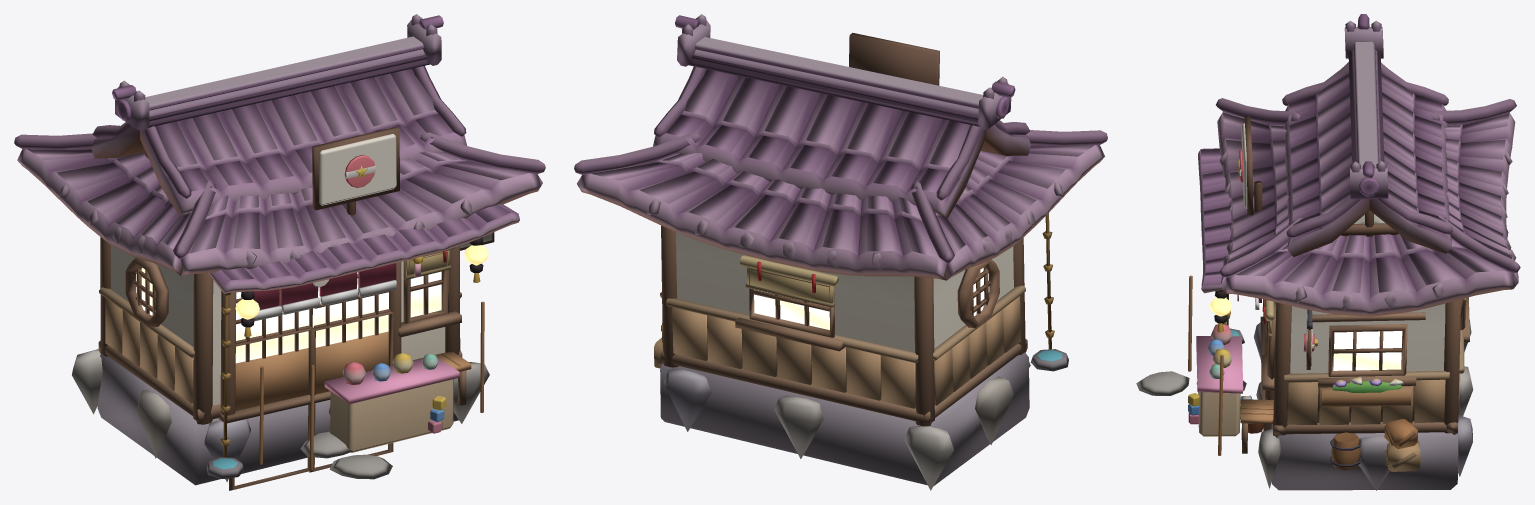
File: shop-2-v3.glb
3 renders of one model, left to right at view 1: azimuth 30°, elevation 25°; view 2: azimuth 150°, elevation 25°; view 3: azimuth 270°, elevation 25°, orthographic. The views are drawn at different scales.
Visible parts, largest first — view 1: shop-2-v3, window_glow; view 2: shop-2-v3, window_glow; view 3: shop-2-v3, window_glow.
Part boxes in pixels (x1=…): shop-2-v3: x1=14, y1=14, x2=545, y2=490; window_glow: x1=136, y1=245, x2=488, y2=363; shop-2-v3: x1=574, y1=14, x2=1107, y2=490; window_glow: x1=754, y1=268, x2=989, y2=329; shop-2-v3: x1=1136, y1=14, x2=1520, y2=490; window_glow: x1=1209, y1=297, x2=1402, y2=370.
Size of the model in its own units: 3.53 by 3.4 by 3.37.
